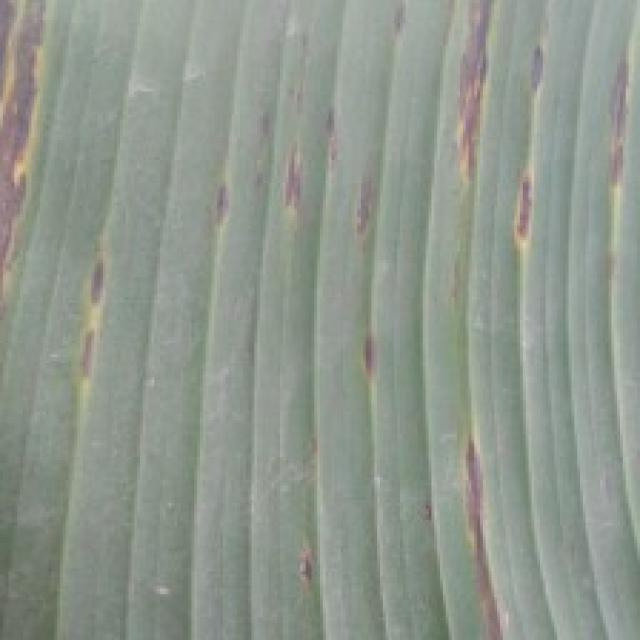Early_leaf_spot: (416, 432, 534, 624), (481, 13, 556, 263), (393, 0, 497, 179), (48, 218, 142, 408), (0, 0, 52, 304), (325, 90, 402, 283), (578, 37, 640, 230), (273, 100, 339, 263), (331, 306, 404, 408), (205, 170, 269, 276), (269, 503, 334, 600), (357, 0, 429, 60)
